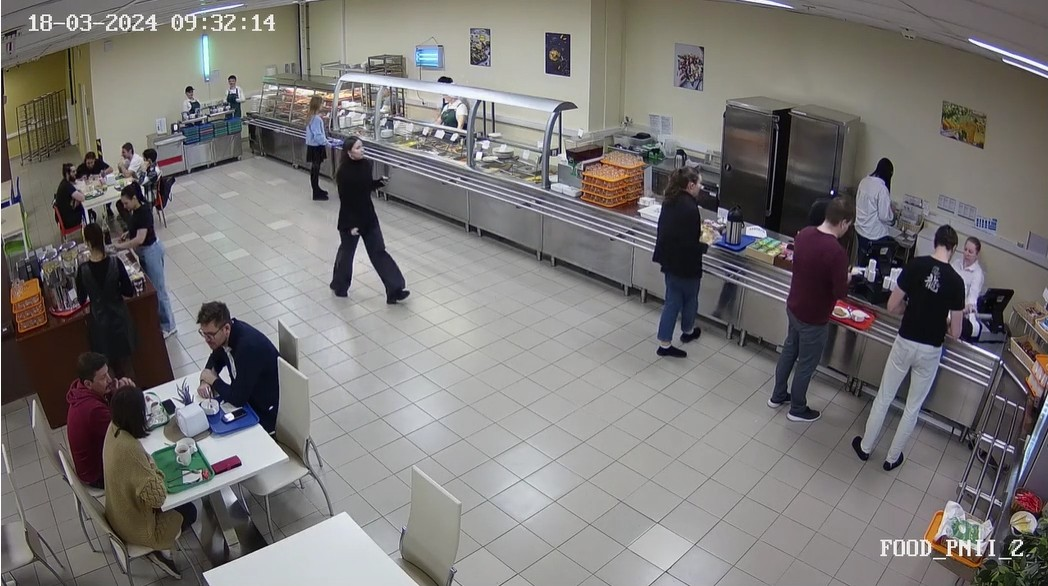Na_Kasse: (770, 199, 1003, 471), (718, 192, 873, 420)
Ne_v_Ocheredi: (106, 186, 233, 336), (71, 222, 133, 336)
Personal: (853, 150, 902, 259), (436, 87, 476, 141), (169, 85, 207, 141), (960, 233, 983, 304), (220, 70, 248, 120)
Vybiraet: (325, 130, 409, 319), (650, 155, 715, 377), (287, 92, 333, 205)
Za_Stolom: (188, 298, 287, 444), (102, 384, 175, 551), (59, 341, 115, 501), (49, 160, 90, 229), (137, 146, 173, 212), (113, 136, 142, 187), (74, 148, 117, 179)
